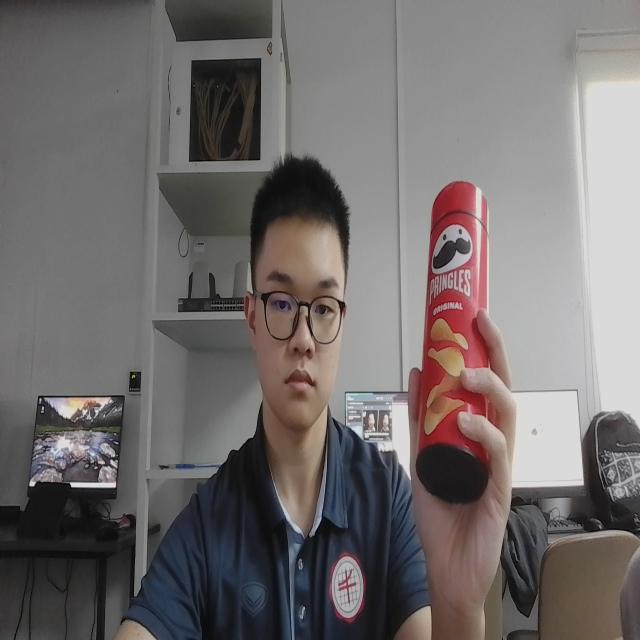water bottle: (416, 176, 492, 503)
